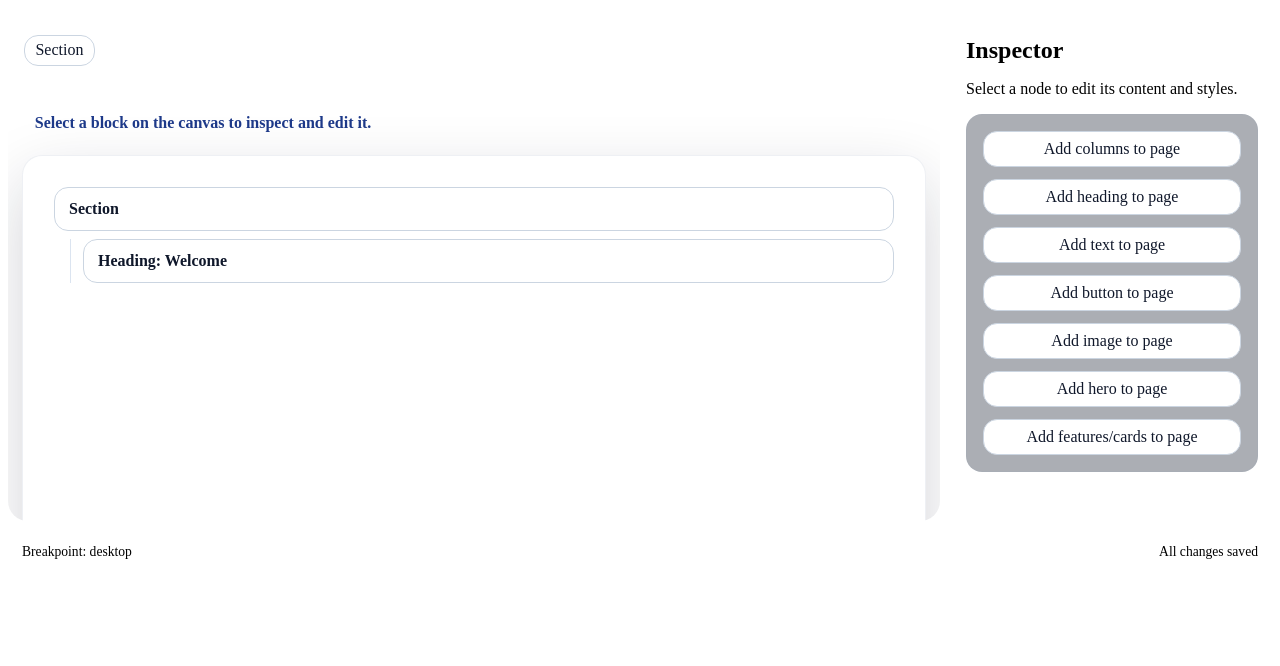
editor shell flow › adds a new block below the selected node and selects it for editing
The width and height of the screenshot is (1280, 666).
Click the button "Heading: Welcome" at (163, 260), box x1=83 y1=239 x2=894 y2=283
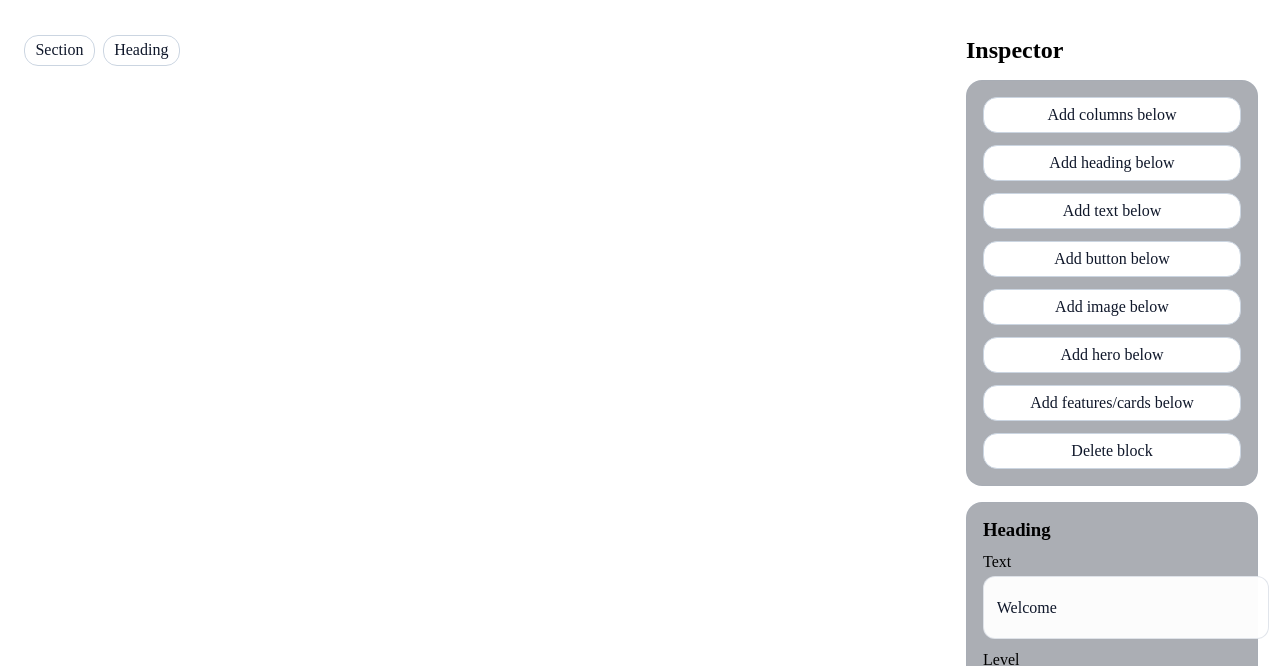
Click the button "Add text below" at (1112, 211), box x1=983 y1=193 x2=1241 y2=229
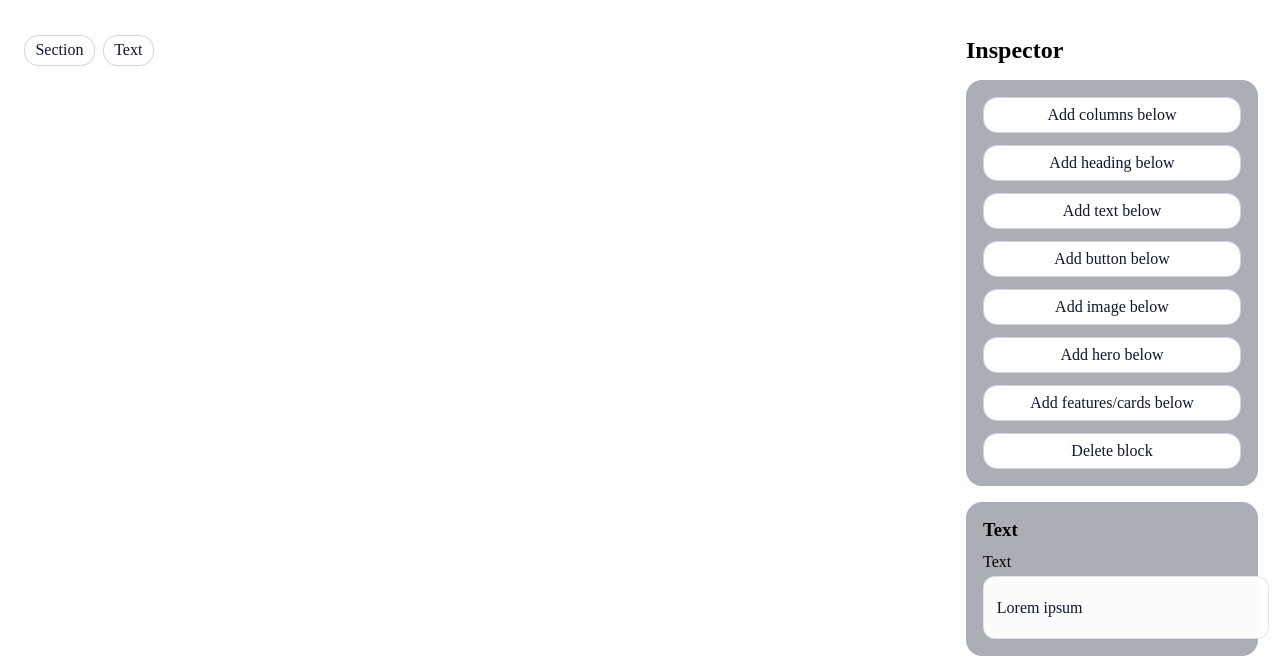
Check: the field labelled "Text" holds "Lorem ipsum"
Replace the text in the field labelled "Text" with "Inserted paragraph" at (1126, 608), box x1=983 y1=576 x2=1269 y2=639
(page scrolled)
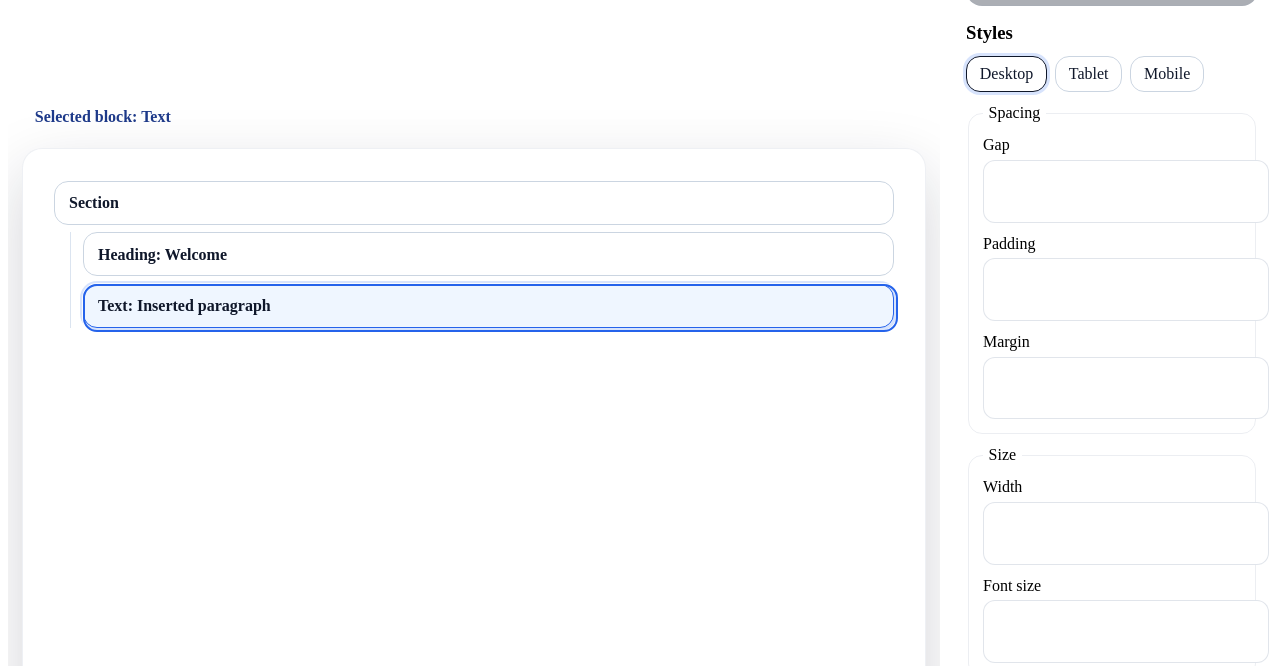
Check: the button "Text: Inserted paragraph" is shown, box x1=83 y1=284 x2=894 y2=328
